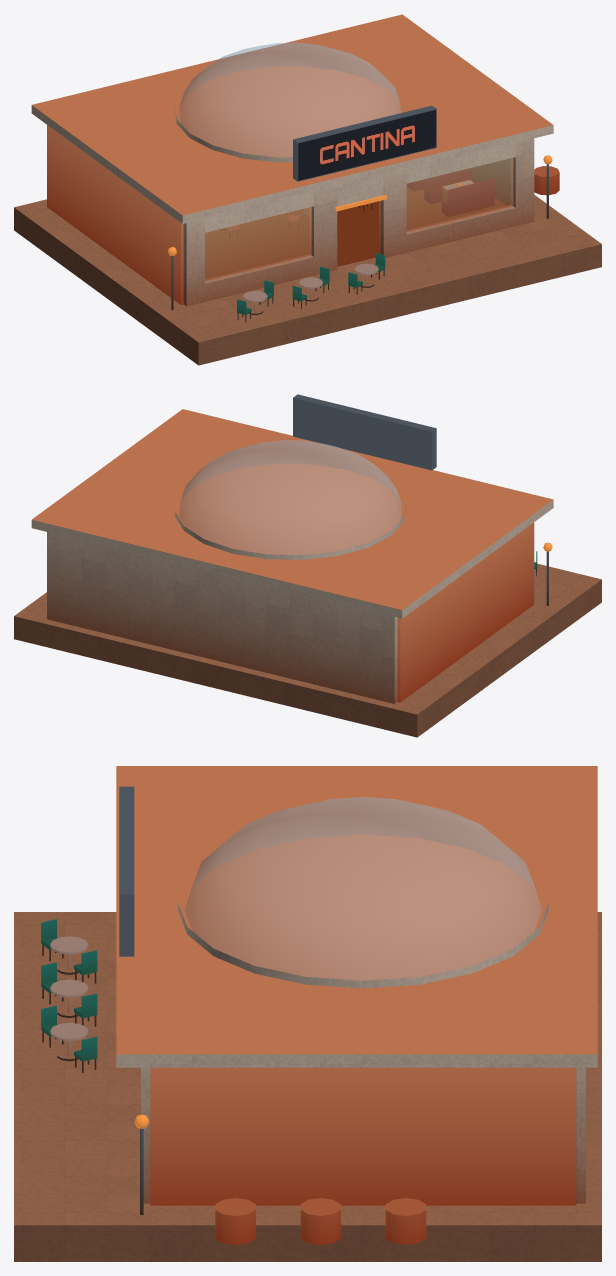
The model's file is red_dune_cantina.glb.
The picture shows the model from 3 angles, top to bottom: view 1: azimuth 30°, elevation 25°; view 2: azimuth 150°, elevation 25°; view 3: azimuth 270°, elevation 25°; orthographic projection. The views are drawn at different scales.
Visible parts, largest first — view 1: red_dune_cantina_LOD0; view 2: red_dune_cantina_LOD0; view 3: red_dune_cantina_LOD0.
Part boxes in pixels (x1,y1,x2,y2): red_dune_cantina_LOD0: (14,14,601,365); red_dune_cantina_LOD0: (14,394,601,737); red_dune_cantina_LOD0: (14,766,601,1261).
Size of what is drawn, in the model's own units: 18.5 by 7.25 by 13.8.
3 materials, 2 textured.
